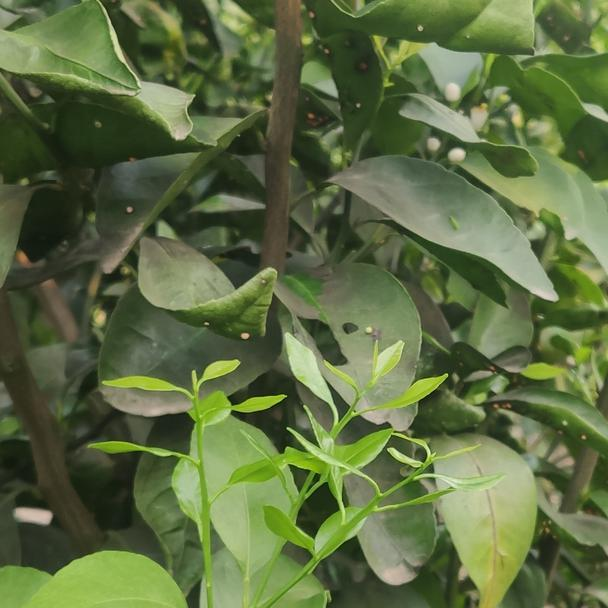shoot: (96, 361, 290, 555), (269, 331, 443, 504), (280, 430, 501, 565)
